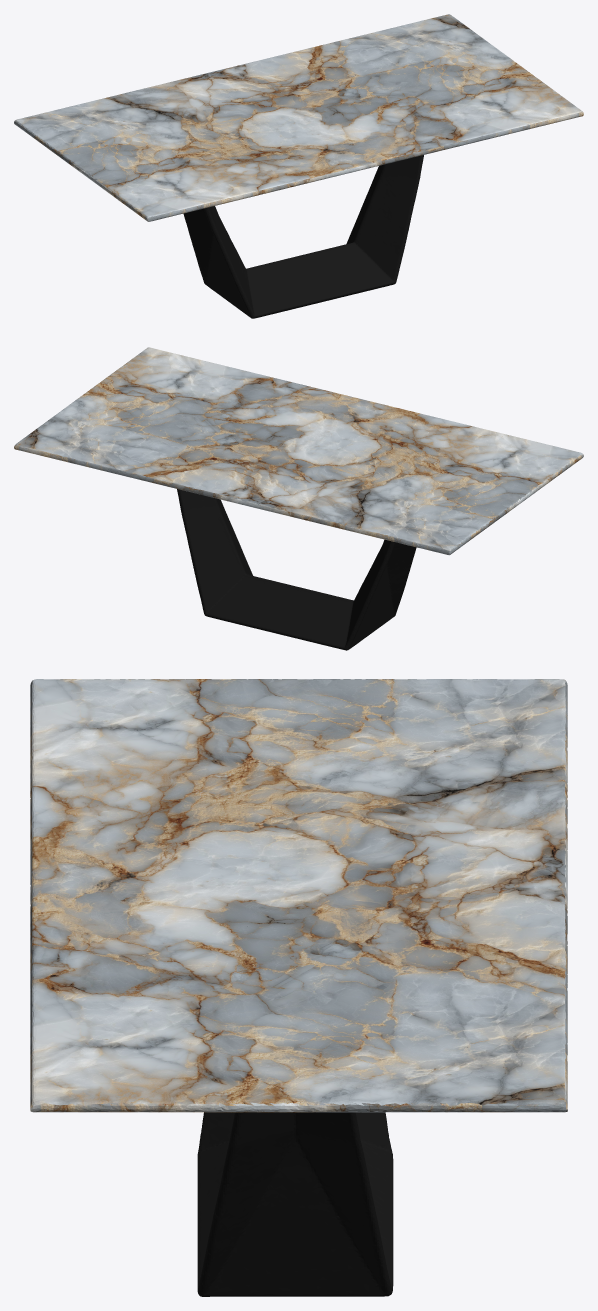
The model's file is MarbleDining.glb.
3 renders of one model, top to bottom at view 1: azimuth 30°, elevation 25°; view 2: azimuth 150°, elevation 25°; view 3: azimuth 270°, elevation 25°, orthographic. The views are drawn at different scales.
Visible parts, largest first — view 1: world.015; view 2: world.015; view 3: world.015.
Boxes of the visible parts, x1=… form: world.015: x1=14, y1=14, x2=583, y2=318; world.015: x1=14, y1=347, x2=583, y2=650; world.015: x1=30, y1=679, x2=567, y2=1296.
Bounding box in the file's own units: 1 × 0.3704 × 0.5352.
Materials: 2 (2 with a texture image).
